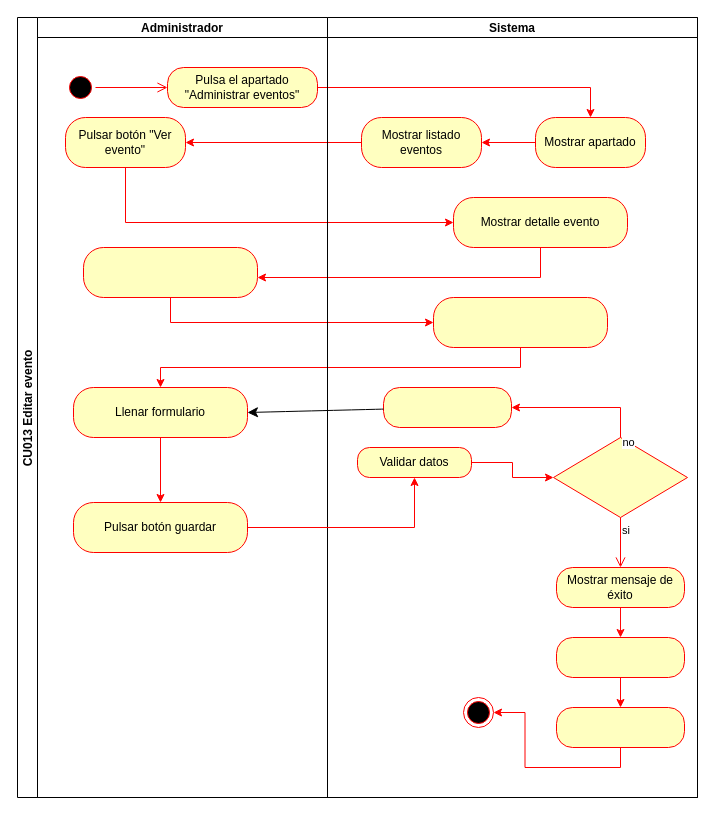
The diagram is 715 pixels wide and 815 high, and some of its shapes have lost their labels. Each missing label, with the centre of its shape:
Guardar evento: pixel 620 657
Mostrar Formulario: pixel 520 322
Mostrar mensaje de error: pixel 447 407
Pulsar botón "Editar evento": pixel 170 272
Redirigir a listado de eventos: pixel 620 727
¿Datos válidos?: pixel 620 477
